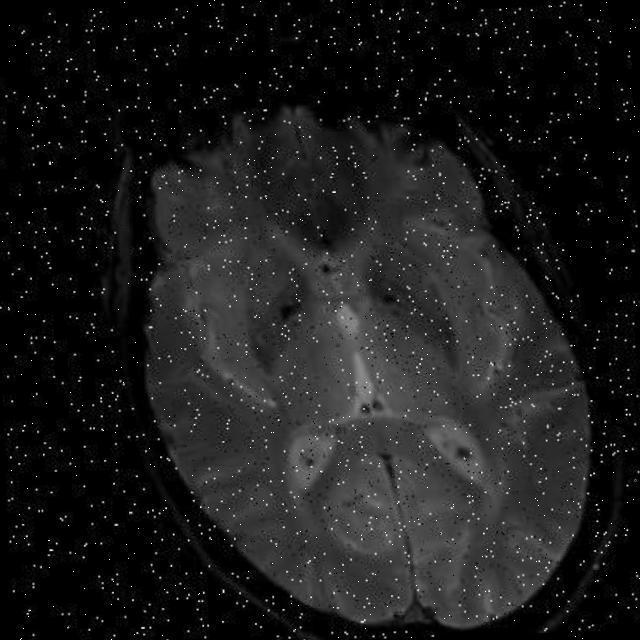MCI: (350, 208, 472, 364), (236, 259, 326, 384)
